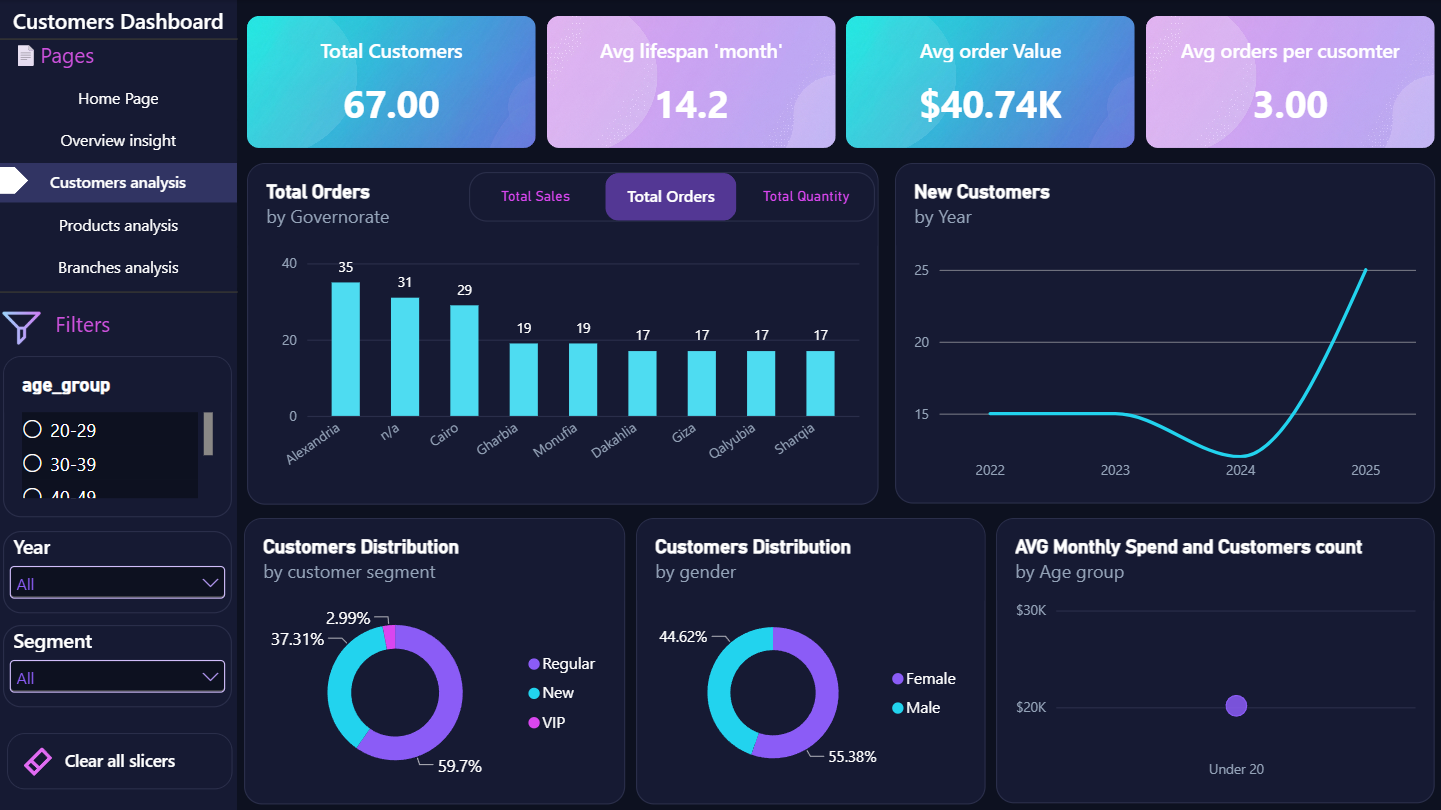

The dashboard page shown, as its layout file describes it:
{"tool":"powerbi","page":{"name":"Customers analysis","canvas":[1280,720],"ordinal":2},"visuals":[{"type":"shape","box":[0,0,211.5,720],"z":0},{"type":"cardVisual","fields":{"Data":["Avg(gold report_customers.lifespan)"]},"box":[485.6,14.2,256.9,117.3],"z":1000},{"type":"scatterChart","fields":{"Size":["Count(gold report_customers.customer_key)"],"X":["gold report_customers.age_group"],"Y":["Avg(gold report_customers.avg_monthly_spend)"]},"box":[884,459.3,389.3,252.7],"z":2000},{"type":"donutChart","fields":{"Category":["gold report_customers.customer_segment"],"Y":["CountNonNull(gold report_customers.customer_segment)"]},"box":[217.2,459.3,338,253.6],"z":3000},{"type":"donutChart","fields":{"Category":["gold report_customers.gender"],"Y":["Count(gold report_customers.customer_key)"]},"box":[565,459.1,310,253.8],"z":4000},{"type":"textbox","box":[0,5,211.5,36.9],"z":5000,"group":"g2"},{"type":"cardVisual","fields":{"Data":["CountNonNull(gold report_customers.customer_key)"]},"box":[219.9,14.2,256.9,117.3],"z":5000},{"type":"cardVisual","fields":{"Data":["Avg(gold report_customers.total_orders)"]},"box":[1017,14.2,256.9,117.3],"z":6000},{"type":"textbox","box":[6.3,35,83,31.5],"z":6000,"group":"g2"},{"type":"cardVisual","fields":{"Data":["Avg(gold report_customers.avg_order_value)"]},"box":[751.3,14.2,256.9,117.3],"z":7000},{"type":"lineChart","fields":{"Category":["gold report_customers.create_date Hierarchy.Year","gold report_customers.create_date Hierarchy.Month"],"Y":["Count(gold report_customers.customer_key)"]},"box":[794.8,144.9,478.9,302.4],"z":8000},{"type":"clusteredColumnChart","fields":{"Category":["gold report_customers.city"],"Y":["gold report_customers.Total Orders1"]},"box":[219.9,144.5,560.4,303.3],"z":9000},{"type":"advancedSlicerVisual","fields":{"Values":["Customers Measures.Customers Measures"]},"box":[416.8,152.1,360.1,44.1],"z":10000},{"type":"shape","box":[0,252.9,211.5,12.6],"z":11000},{"type":"textbox","box":[0,273.6,148.5,35.1],"z":12000},{"type":"actionButton","box":[0,144.8,211,35],"z":13000,"group":"g1"},{"type":"image","box":[0,273.6,39.6,34.2],"z":13000},{"type":"shape","box":[0,148.4,26,23.9],"z":14000,"group":"g1"},{"type":"listSlicer","fields":{"Values":["gold report_customers.age_group"]},"box":[3.6,315.9,203,143.1],"z":14000},{"type":"slicer","fields":{"Values":["gold report_customers.create_date Hierarchy.Year"]},"box":[3.6,470.8,203,72.9],"z":15000},{"type":"slicer","fields":{"Values":["gold report_customers.customer_segment"]},"box":[3.6,554,203,72.9],"z":16000},{"type":"actionButton","box":[7.2,649.9,200,50],"z":17000},{"type":"actionButton","box":[0,182.6,211.5,35],"z":18000},{"type":"actionButton","box":[0,220,211.5,35],"z":19000},{"type":"actionButton","box":[0,70,211.5,35],"z":20000},{"type":"group","id":"g1","title":"Group 1","box":[0,144.8,211,35.5],"z":21000},{"type":"actionButton","box":[0,107.4,211.5,35],"z":22000},{"type":"group","id":"g2","title":"Group 2","box":[0,5,211.5,61.5],"z":23000},{"type":"shape","box":[0,28.4,211.5,12.6],"z":24000,"group":"g2"}]}

Visuals, with their boxes on the page's 1280x720 design canvas (x1, y1, x2, y2). These are canvas units, not pixel positions in the 1441x810 screenshot, which may show the page scaled, cropped or inside an application window:
shape: (0,0,212,720)
cardVisual - Avg(gold report_customers.lifespan): (486,14,742,132)
scatterChart - Count(gold report_customers.customer_key) x gold report_customers.age_group: (884,459,1273,712)
donutChart - gold report_customers.customer_segment x CountNonNull(gold report_customers.customer_segment): (217,459,555,713)
donutChart - gold report_customers.gender x Count(gold report_customers.customer_key): (565,459,875,713)
textbox: (0,5,212,42)
cardVisual - CountNonNull(gold report_customers.customer_key): (220,14,477,132)
cardVisual - Avg(gold report_customers.total_orders): (1017,14,1274,132)
textbox: (6,35,89,66)
cardVisual - Avg(gold report_customers.avg_order_value): (751,14,1008,132)
lineChart - gold report_customers.create_date Hierarchy.Year x gold report_customers.create_date Hierarchy.Month: (795,145,1274,447)
clusteredColumnChart - gold report_customers.city x gold report_customers.Total Orders1: (220,144,780,448)
advancedSlicerVisual - Customers Measures.Customers Measures: (417,152,777,196)
shape: (0,253,212,266)
textbox: (0,274,148,309)
actionButton: (0,145,211,180)
image: (0,274,40,308)
shape: (0,148,26,172)
listSlicer - gold report_customers.age_group: (4,316,207,459)
slicer - gold report_customers.create_date Hierarchy.Year: (4,471,207,544)
slicer - gold report_customers.customer_segment: (4,554,207,627)
actionButton: (7,650,207,700)
actionButton: (0,183,212,218)
actionButton: (0,220,212,255)
actionButton: (0,70,212,105)
"Group 1" group: (0,145,211,180)
actionButton: (0,107,212,142)
"Group 2" group: (0,5,212,66)
shape: (0,28,212,41)
